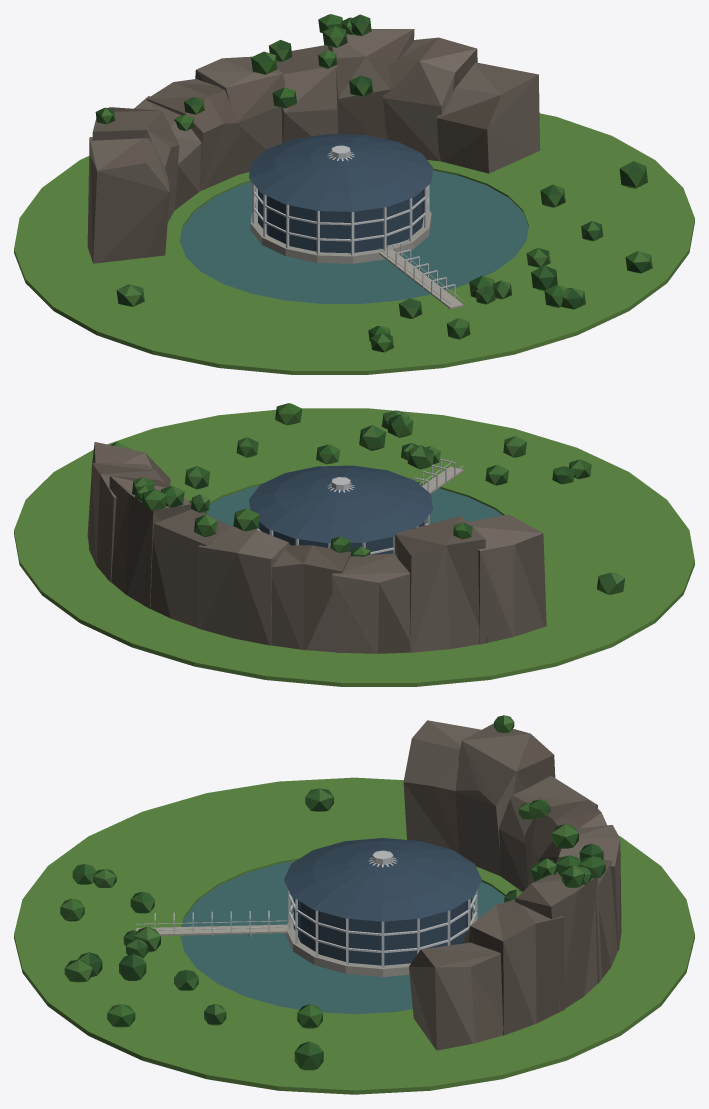
The model's file is opera_de_arame.glb.
The picture shows the model from 3 angles, top to bottom: view 1: azimuth 30°, elevation 25°; view 2: azimuth 150°, elevation 25°; view 3: azimuth 270°, elevation 25°; orthographic projection. The views are drawn at different scales.
Parts seen in each view (by area): view 1: opera_de_arame; view 2: opera_de_arame; view 3: opera_de_arame.
Boxes of the visible parts, x1,y1,x2,y2 form: opera_de_arame: (14, 14, 694, 374); opera_de_arame: (14, 403, 694, 686); opera_de_arame: (14, 715, 694, 1094).
Size of the model in its own units: 156 by 31.67 by 144.
